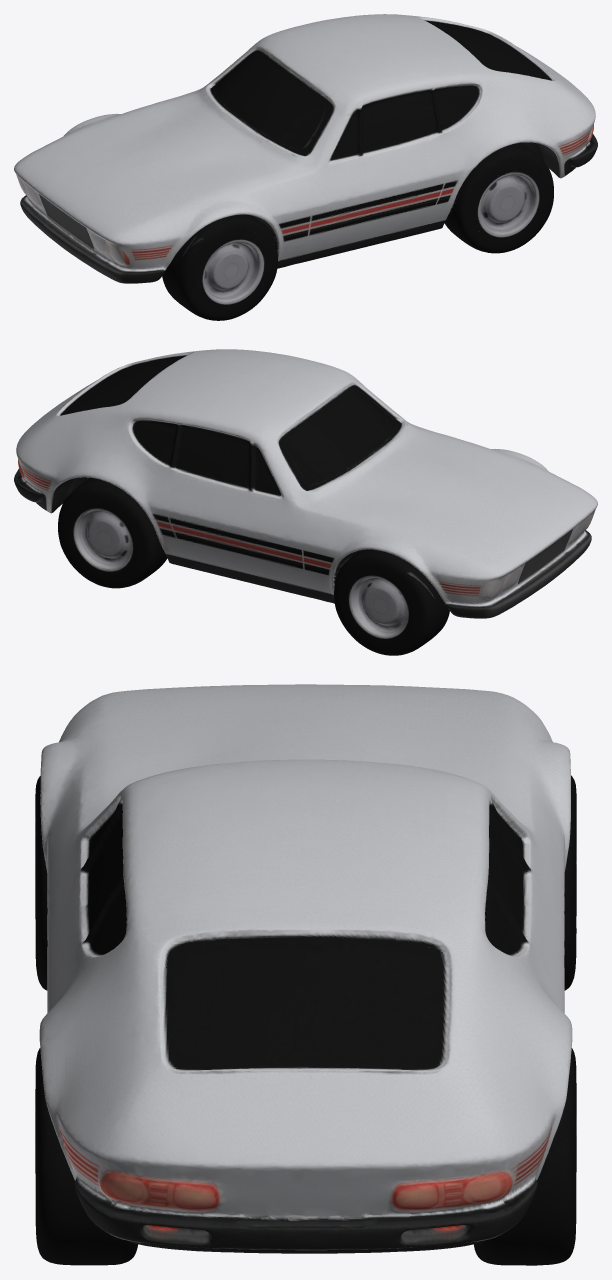
Rendered from cars_popular_sampa.glb.
3 renders of one model, top to bottom at view 1: azimuth 30°, elevation 25°; view 2: azimuth 150°, elevation 25°; view 3: azimuth 270°, elevation 25°, orthographic. The views are drawn at different scales.
Parts seen in each view (by area): view 1: Mesh_0; view 2: Mesh_0; view 3: Mesh_0.
Boxes of the visible parts, box(x1,y1,x2,y2) form: Mesh_0: box(14, 14, 597, 320); Mesh_0: box(14, 349, 597, 655); Mesh_0: box(35, 684, 576, 1265).
Bounding box in the file's own units: 1.9 × 0.6509 × 0.8797.
1 material, 1 textured.
